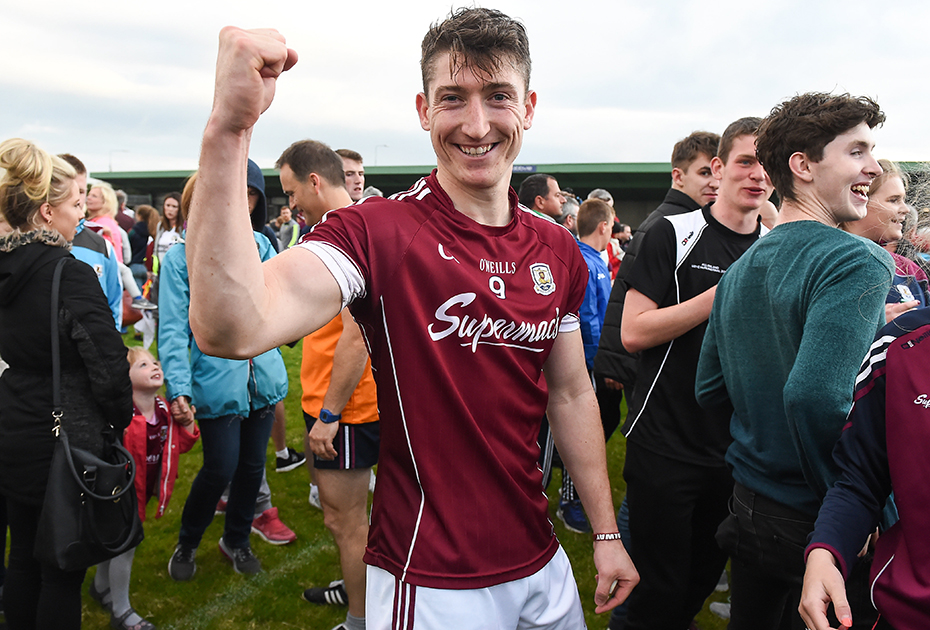player: (254, 0, 617, 585), (740, 76, 877, 471)
